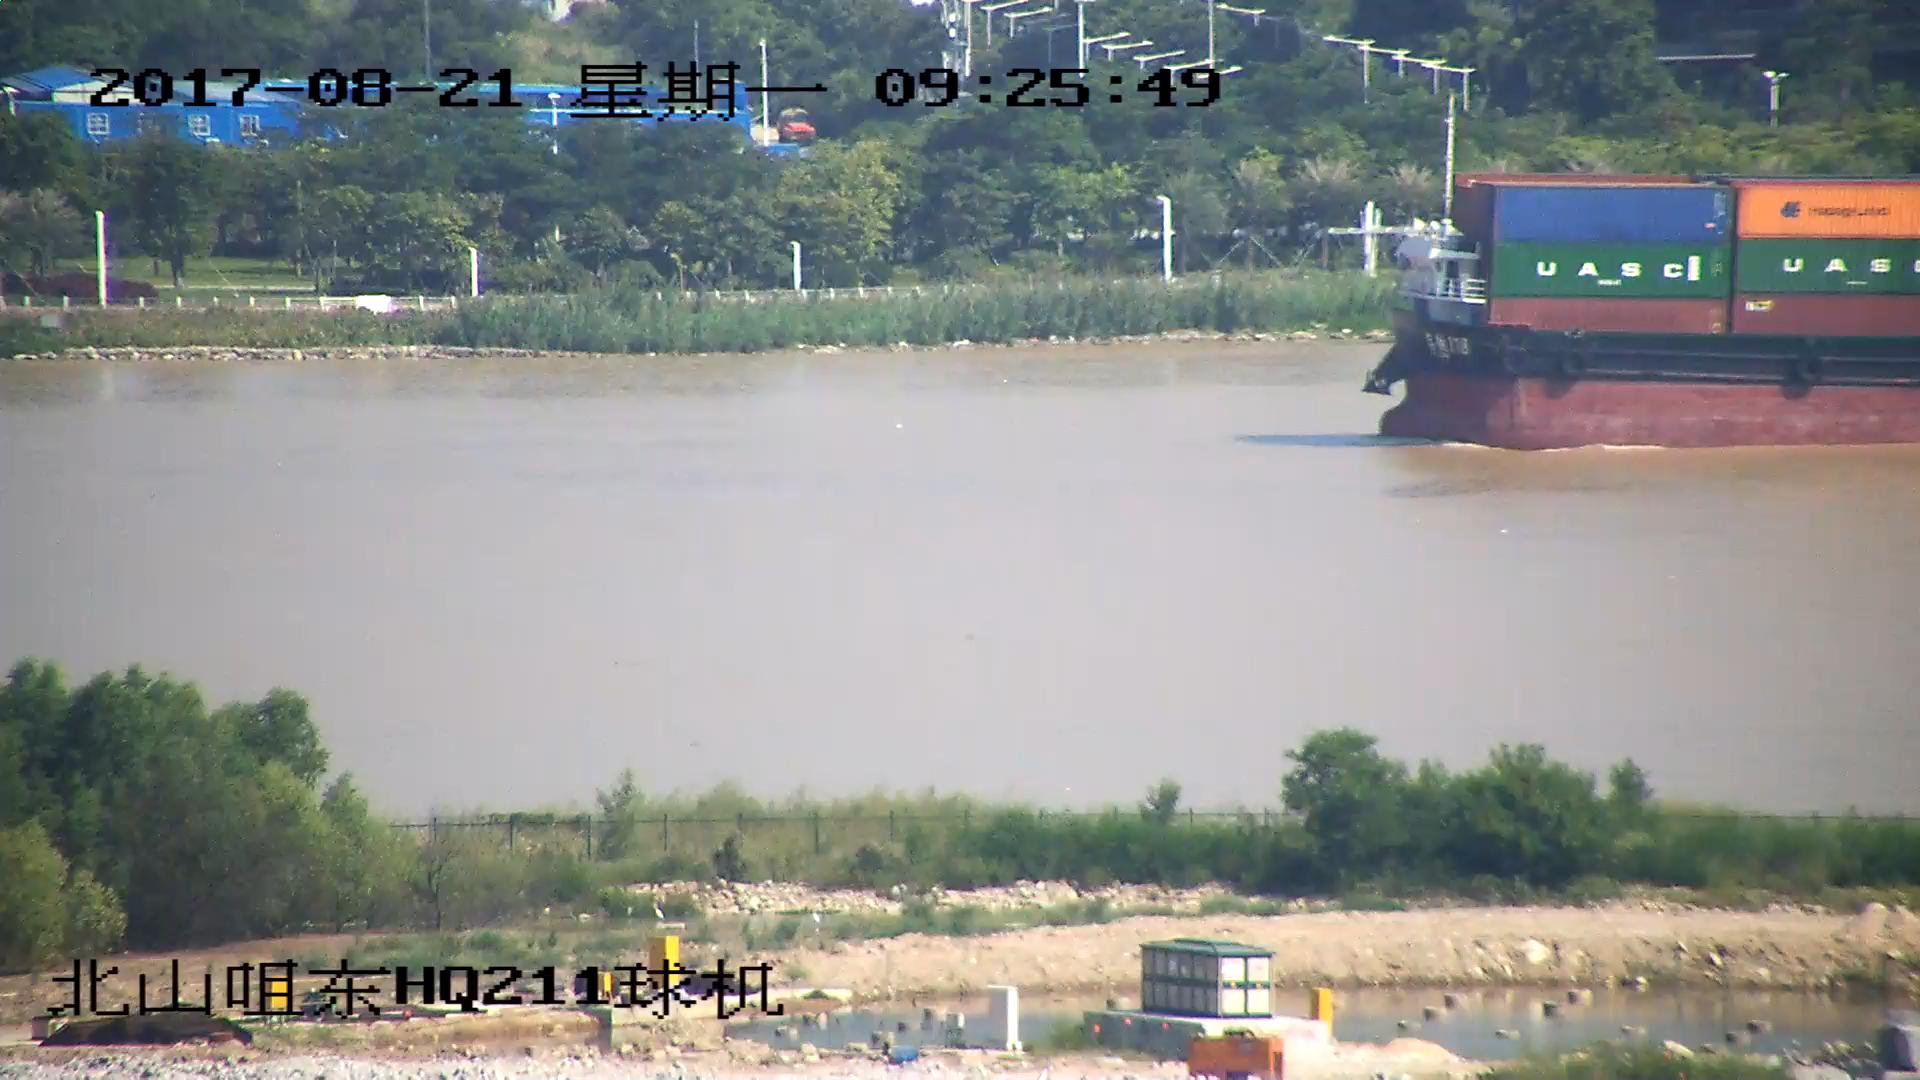container ship: (1364, 108, 1920, 447)
